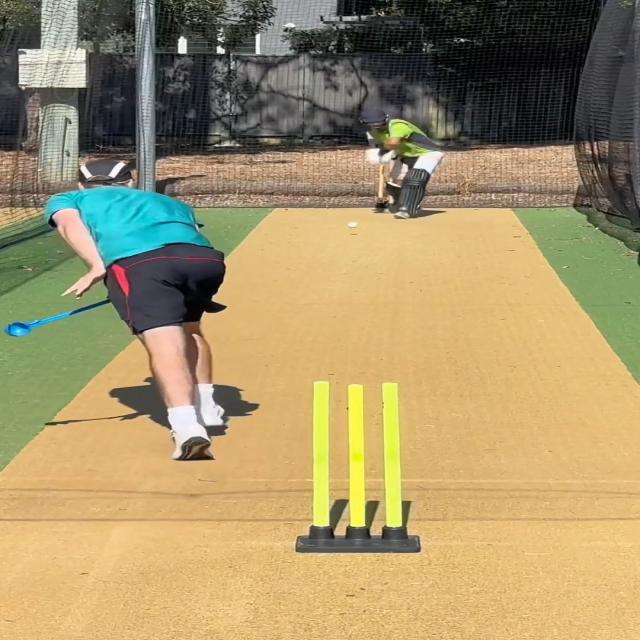ball: (346, 220, 360, 230)
stump: (293, 379, 419, 556)
